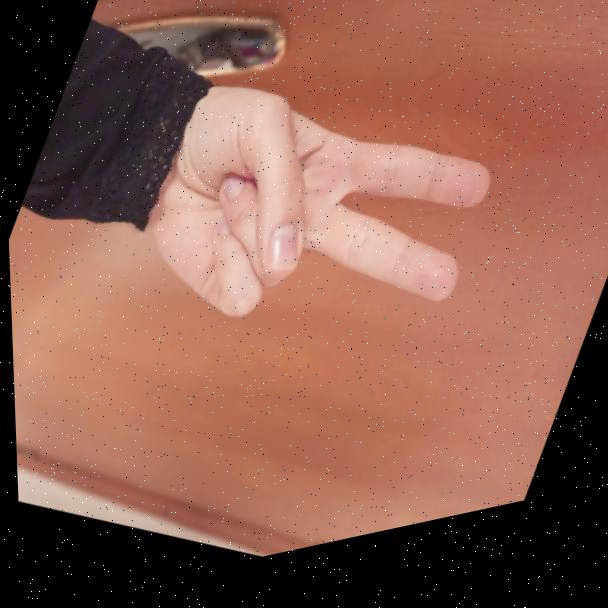two: (34, 0, 586, 497)
